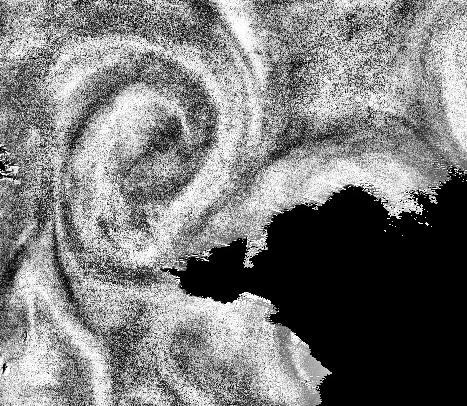AE: (58, 42, 225, 248)
